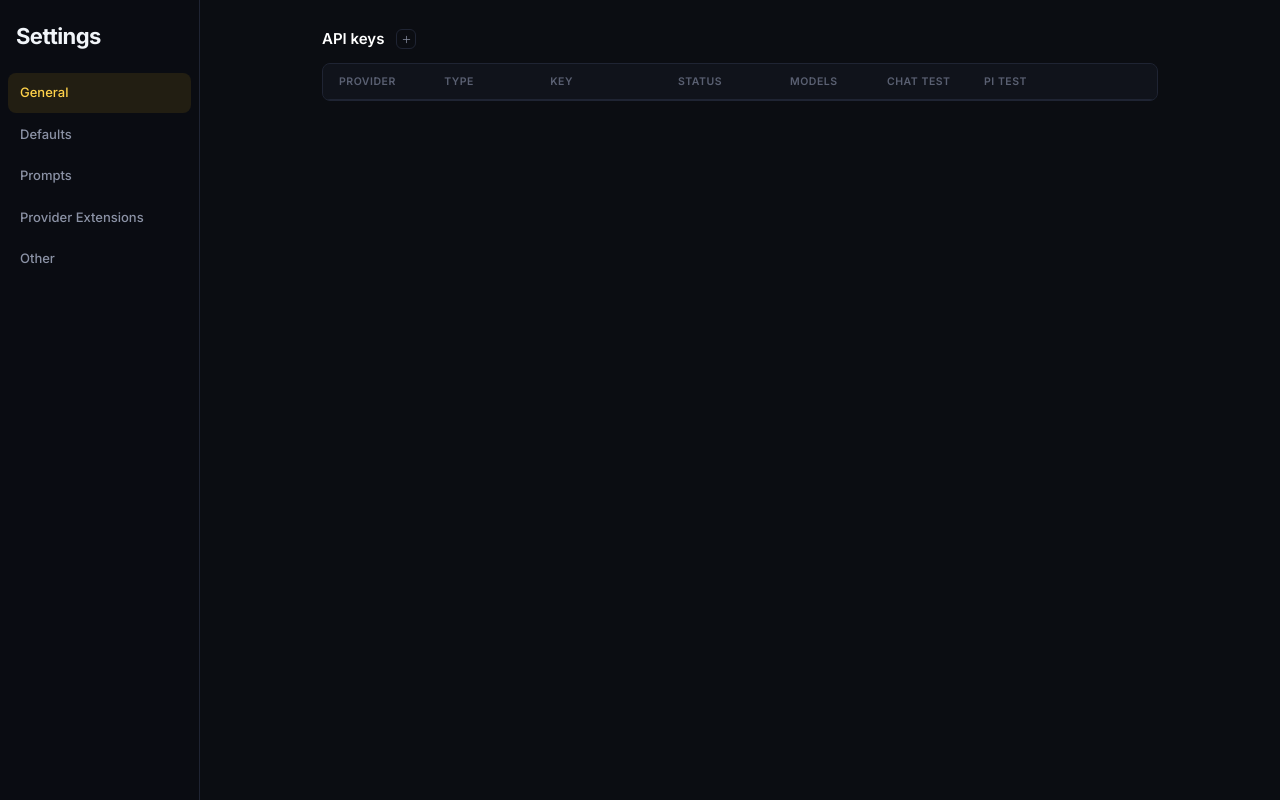
Test case: SettingsScreen › renders the Nurse defaults section
Click the button "Other".
click(100, 259)  # box [8,239,191,278]
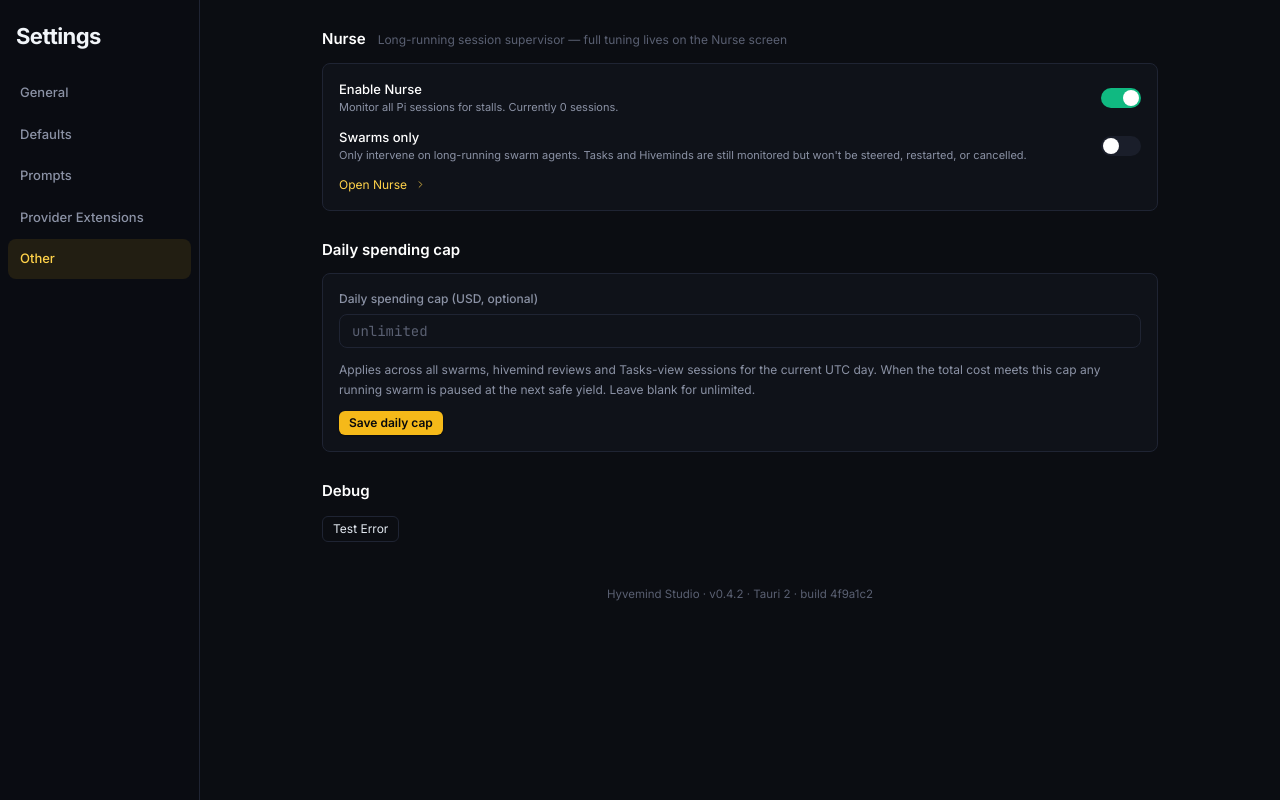
Expected: the heading "Nurse" is shown, [322,28,366,50]
Expected: the text "Long-running session supervisor" is shown, [378,32,787,47]
Expected: the text "Enable Nurse" is shown, [339,80,422,96]
